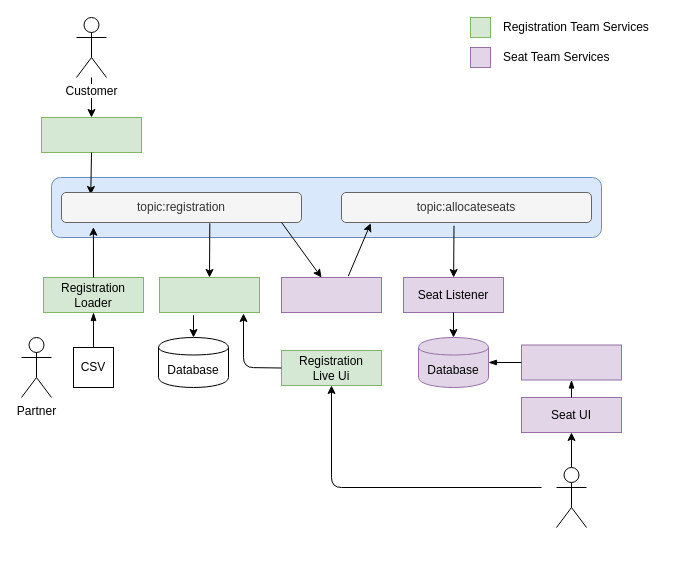
The diagram is 679 pixels wide and 566 high, and some of its shapes have lost their labels. The shapes that lost their labels are listed below. From the top down, each one's centre as x and y in pixels, then its label:
At (91,134): "Registration UI".
At (209,294): "Registration Command".
At (331,294): "Seat Request".
At (571,362): "Seat Reader".
At (571,497): "Administrator".
